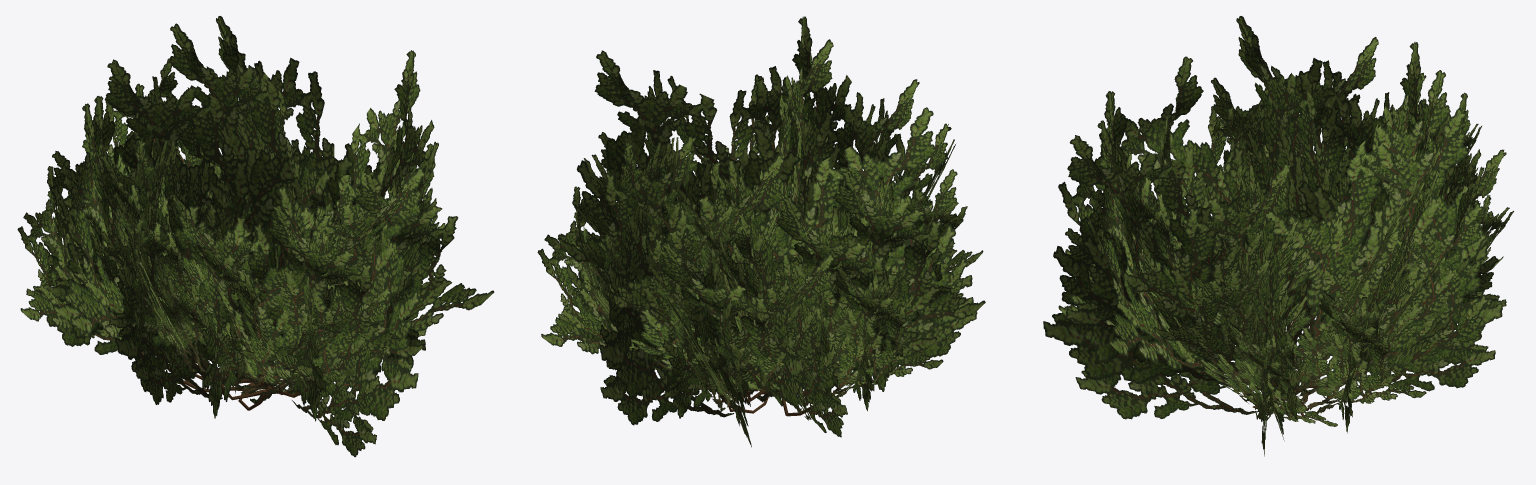
Rendered from SM_TI_Beach_Cabbage_0.fbx.
3 renders of one model, left to right at view 1: azimuth 30°, elevation 25°; view 2: azimuth 150°, elevation 25°; view 3: azimuth 270°, elevation 25°, orthographic. The views are drawn at different scales.
Parts seen in each view (by area): view 1: SM_TI_Beach_Cabbage_0; view 2: SM_TI_Beach_Cabbage_0; view 3: SM_TI_Beach_Cabbage_0.
Part boxes in pixels (box(x1,y1,x2,y2)): SM_TI_Beach_Cabbage_0: box(17, 16, 494, 457); SM_TI_Beach_Cabbage_0: box(537, 16, 985, 447); SM_TI_Beach_Cabbage_0: box(1043, 16, 1513, 456).
Size of the model in its own units: 4.77 by 4.77 by 3.79.
